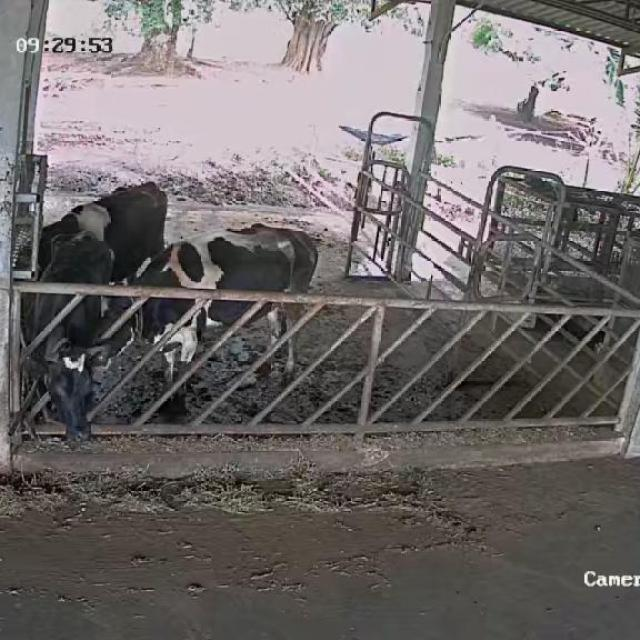drinking: (0, 172, 173, 294)
feeding: (25, 224, 132, 449)
standing: (138, 216, 322, 400)
